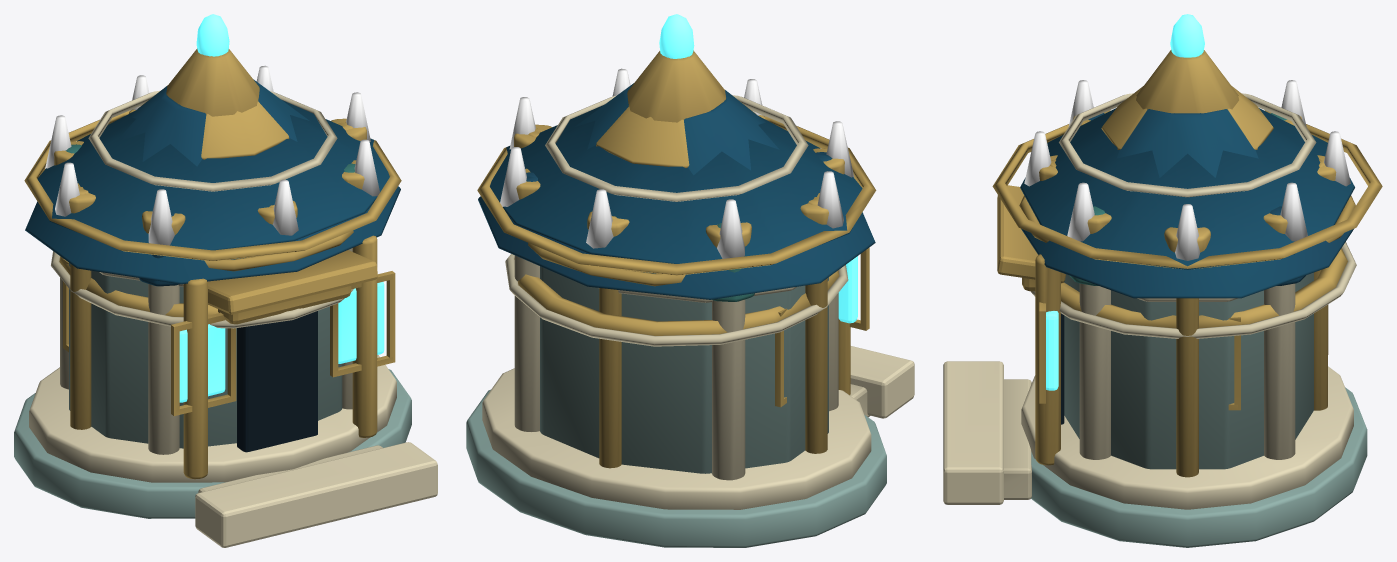
File: skyreach-modular-architecture-authored-v1.glb
3 renders of one model, left to right at view 1: azimuth 30°, elevation 25°; view 2: azimuth 150°, elevation 25°; view 3: azimuth 270°, elevation 25°, orthographic. The views are drawn at different scales.
Parts seen in each view (by area): view 1: GB_MODULE_LandmarkCanopy, GB_MODULE_BuildingStep_3, GB_MODULE_LandmarkFoundationUpper, GB_MODULE_BuildingRoof, GB_MODULE_BuildingWall, GB_MODULE_BuildingDoor, GB_MODULE_LandmarkFoundation, GB_MODULE_BuildingRoofEave, GB_MODULE_BuildingEntryCanopy, GB_MODULE_BuildingColumn_L, GB_MODULE_BuildingCrown, GB_MODULE_BuildingButtress_3 (+23 smaller); view 2: GB_MODULE_BuildingWall, GB_MODULE_LandmarkCanopy, GB_MODULE_LandmarkFoundation, GB_MODULE_LandmarkFoundationUpper, GB_MODULE_BuildingRoof, GB_MODULE_BuildingRoofEave, GB_MODULE_BuildingButtress_2, GB_MODULE_BuildingCrown, GB_MODULE_LandmarkRing, GB_MODULE_BuildingBalcony, GB_MODULE_BuildingRoofHalo, GB_MODULE_LandmarkPillar_5 (+17 smaller); view 3: GB_MODULE_LandmarkCanopy, GB_MODULE_BuildingWall, GB_MODULE_BuildingRoof, GB_MODULE_LandmarkFoundationUpper, GB_MODULE_LandmarkFoundation, GB_MODULE_BuildingStep_3, GB_MODULE_BuildingRoofEave, GB_MODULE_BuildingButtress_4, GB_MODULE_BuildingButtress_1, GB_MODULE_BuildingCrown, GB_MODULE_BuildingRoofHalo, GB_MODULE_LandmarkPillar_1 (+19 smaller).
Part boxes in pixels (x1,y1,x2,y2): GB_MODULE_LandmarkCanopy: [37, 100, 389, 250]; GB_MODULE_BuildingStep_3: [195, 442, 437, 547]; GB_MODULE_LandmarkFoundationUpper: [29, 355, 396, 482]; GB_MODULE_BuildingRoof: [25, 79, 400, 284]; GB_MODULE_BuildingWall: [69, 263, 342, 448]; GB_MODULE_BuildingDoor: [237, 311, 317, 452]; GB_MODULE_LandmarkFoundation: [14, 369, 411, 518]; GB_MODULE_BuildingRoofEave: [24, 110, 401, 261]; GB_MODULE_BuildingEntryCanopy: [208, 250, 377, 314]; GB_MODULE_BuildingColumn_L: [183, 278, 207, 479]; GB_MODULE_BuildingCrown: [166, 48, 259, 116]; GB_MODULE_BuildingButtress_3: [148, 284, 179, 454]; GB_MODULE_BuildingWall: [540, 266, 828, 473]; GB_MODULE_LandmarkCanopy: [490, 104, 862, 263]; GB_MODULE_LandmarkFoundation: [466, 389, 886, 547]; GB_MODULE_LandmarkFoundationUpper: [482, 368, 871, 509]; GB_MODULE_BuildingRoof: [478, 83, 875, 299]; GB_MODULE_BuildingRoofEave: [477, 116, 876, 275]; GB_MODULE_BuildingButtress_2: [712, 299, 745, 480]; GB_MODULE_BuildingCrown: [627, 50, 725, 122]; GB_MODULE_LandmarkRing: [514, 258, 839, 335]; GB_MODULE_BuildingBalcony: [505, 254, 848, 346]; GB_MODULE_BuildingRoofHalo: [545, 95, 808, 201]; GB_MODULE_LandmarkPillar_5: [805, 197, 827, 453]; GB_MODULE_LandmarkCanopy: [1020, 108, 1354, 269]; GB_MODULE_BuildingWall: [1064, 272, 1313, 469]; GB_MODULE_BuildingRoof: [1021, 109, 1353, 298]; GB_MODULE_LandmarkFoundationUpper: [1021, 366, 1353, 509]; GB_MODULE_LandmarkFoundation: [1031, 387, 1367, 547]; GB_MODULE_BuildingStep_3: [943, 361, 1003, 504]; GB_MODULE_BuildingRoofEave: [992, 124, 1382, 269]; GB_MODULE_BuildingButtress_4: [1079, 283, 1110, 459]; GB_MODULE_BuildingButtress_1: [1264, 283, 1295, 459]; GB_MODULE_BuildingCrown: [1136, 50, 1238, 113]; GB_MODULE_BuildingRoofHalo: [1059, 93, 1316, 197]; GB_MODULE_LandmarkPillar_1: [1176, 298, 1198, 477].
Bounding box in the file's own units: 1.06 × 1.22 × 1.09.
